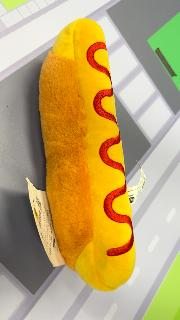hotdog: (38, 18, 140, 292)
